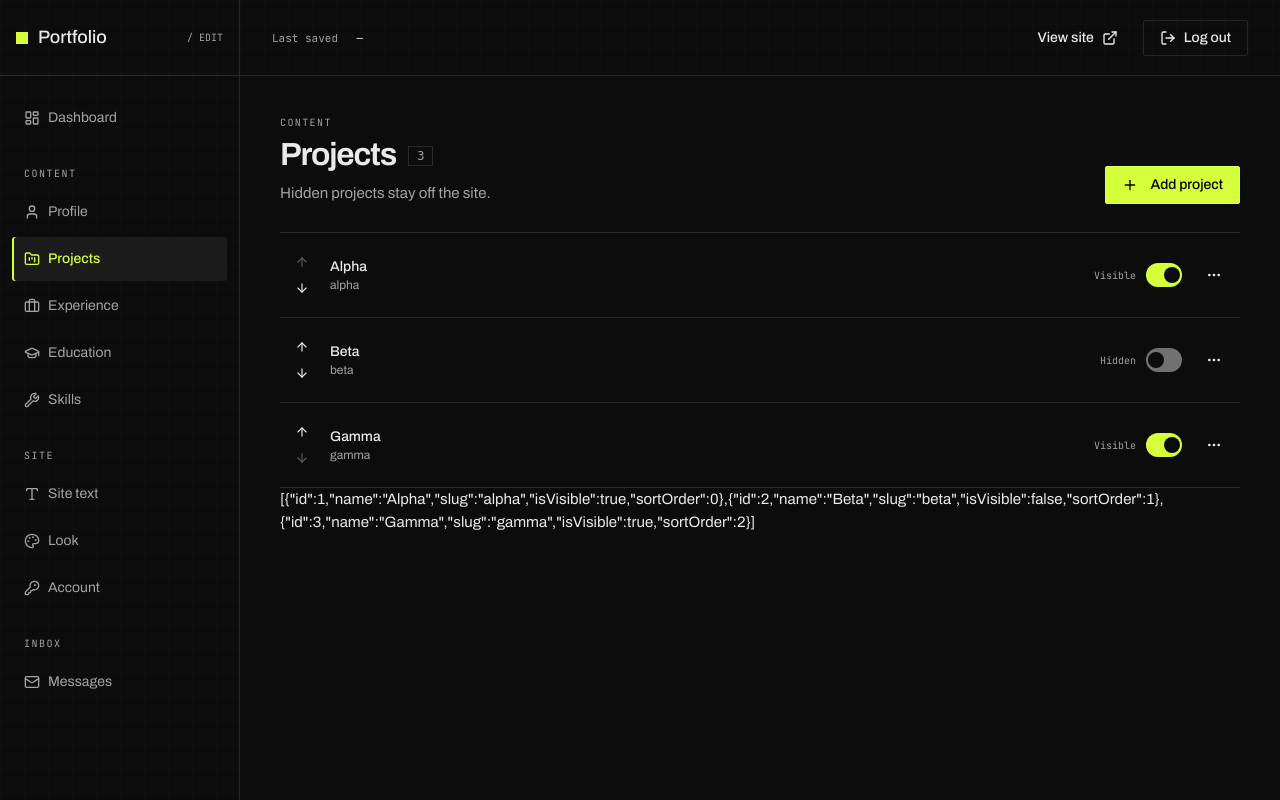
Test: ListEditor › server fields error from PUT shows under the field and the panel stays open
This screenshot has width=1280, height=800.
Click the text "Beta" at point(345, 352), box [330,342,360,362]
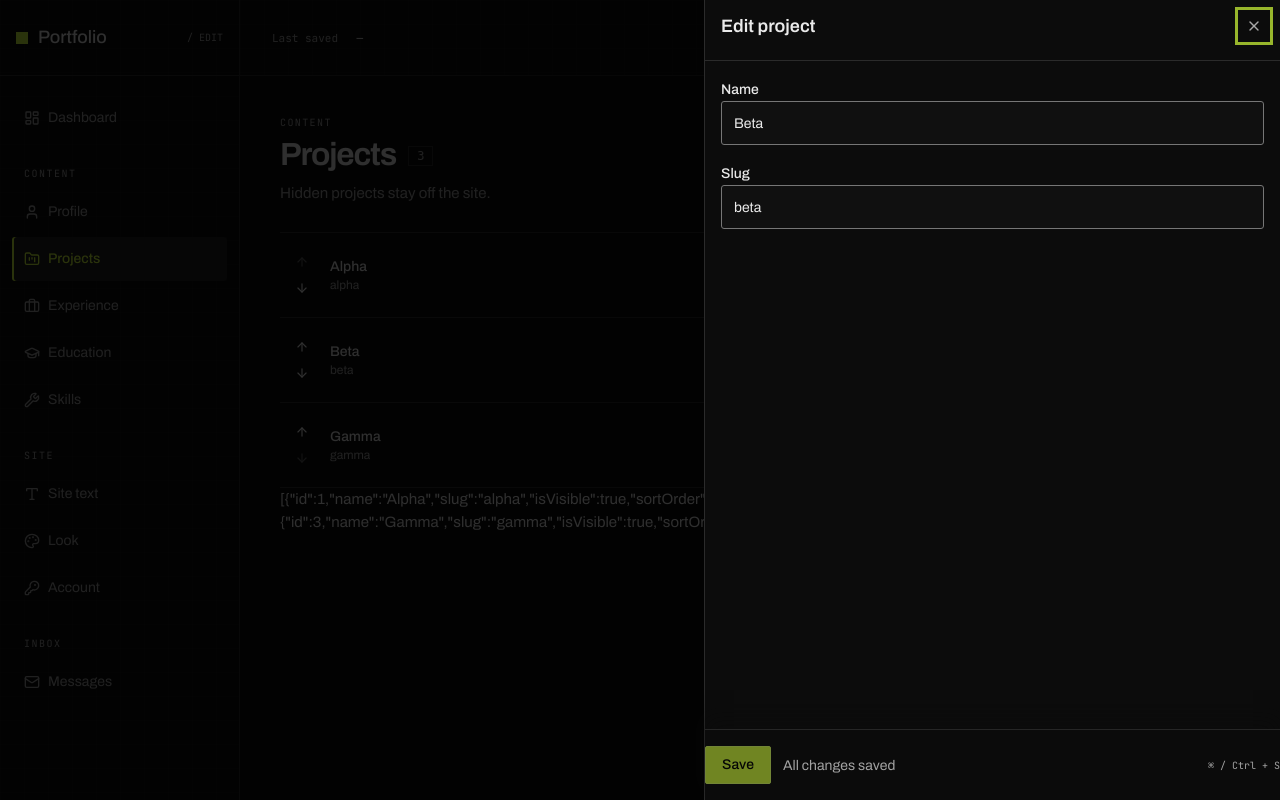
Type "x" into the field labelled "Name" at point(992, 123), box [721,101,1264,145]
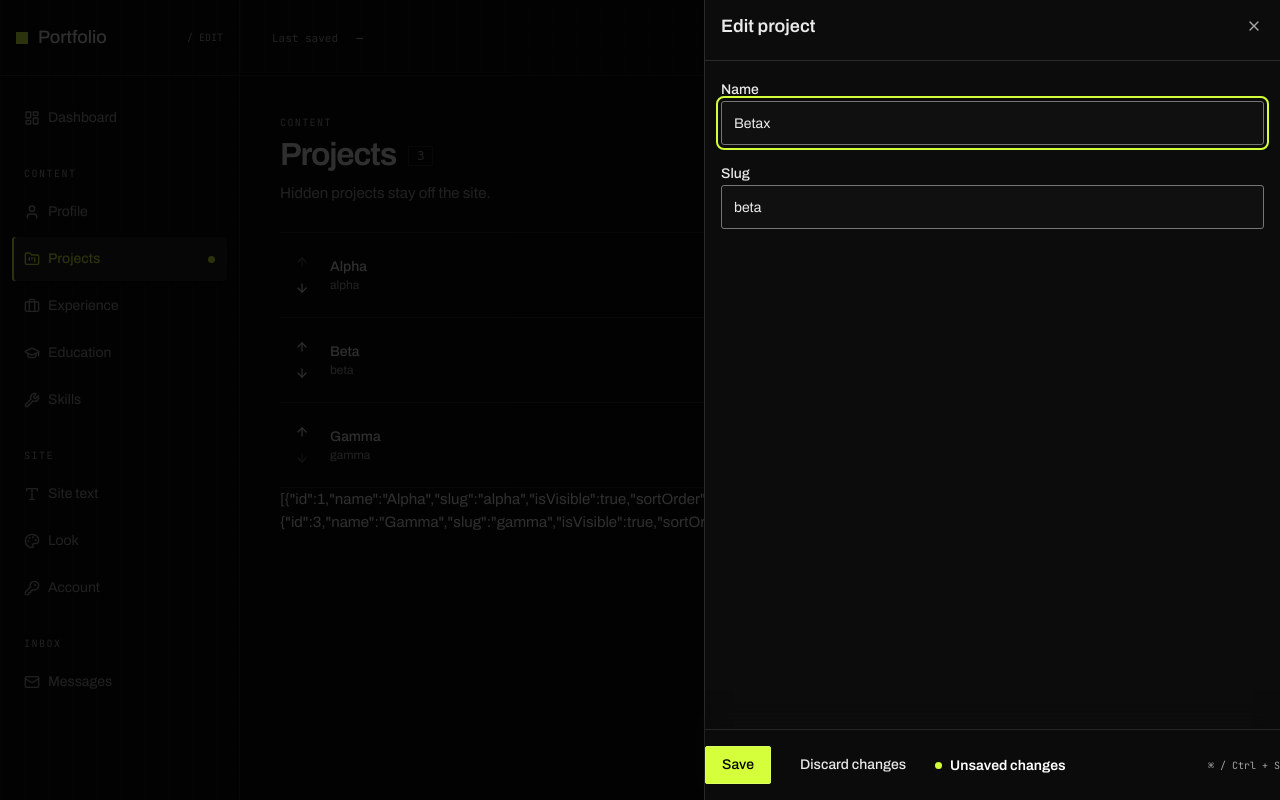
Click the button "Save" at point(738, 765), box [705,746,771,784]
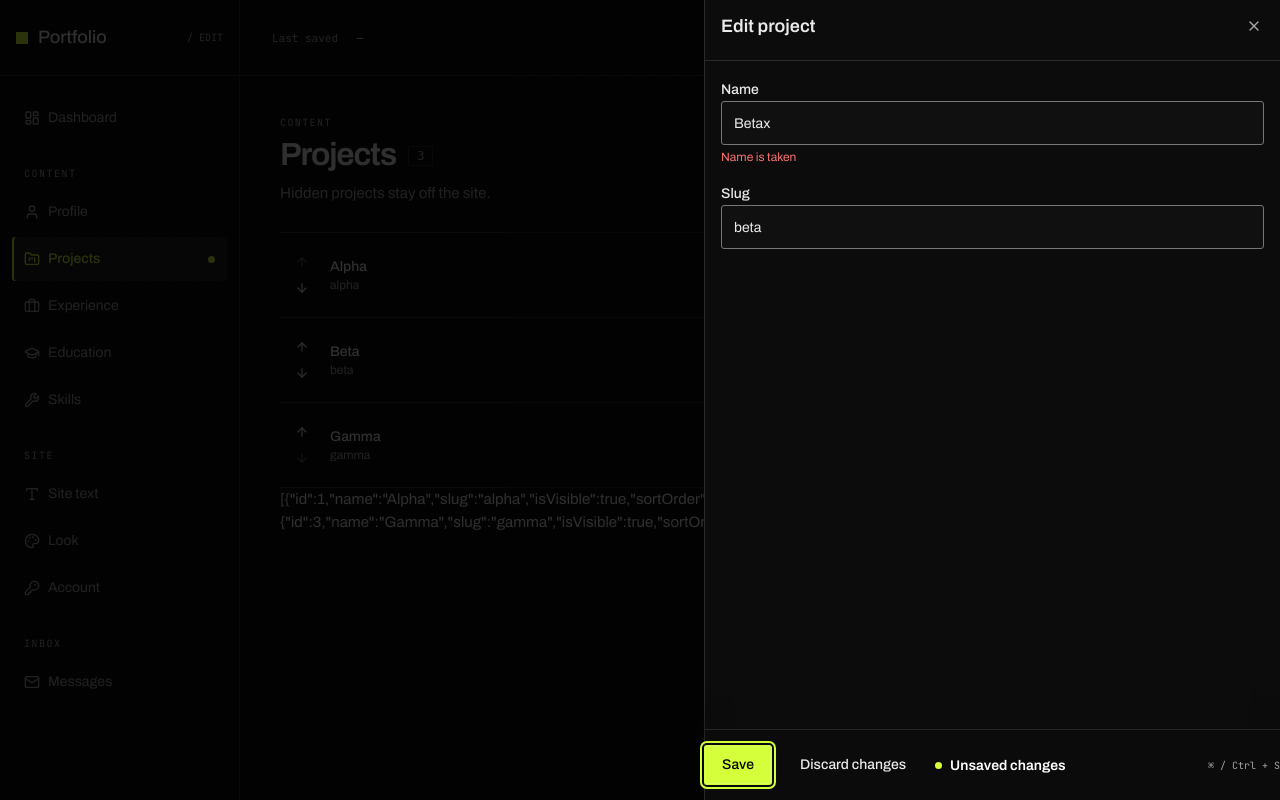
Now the dialog is shown, box [704,0,1279,799]
Now the text "Name is taken" is shown, box [721,150,796,164]
